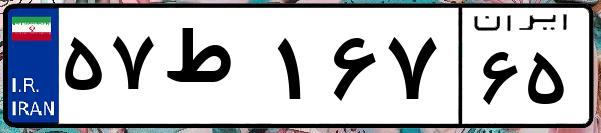1: (270, 28, 330, 110)
5: (57, 26, 110, 100), (525, 38, 570, 115)
6: (330, 28, 385, 110), (475, 38, 525, 113)
7: (385, 28, 445, 110), (110, 28, 158, 98)
ط: (158, 20, 270, 120)
